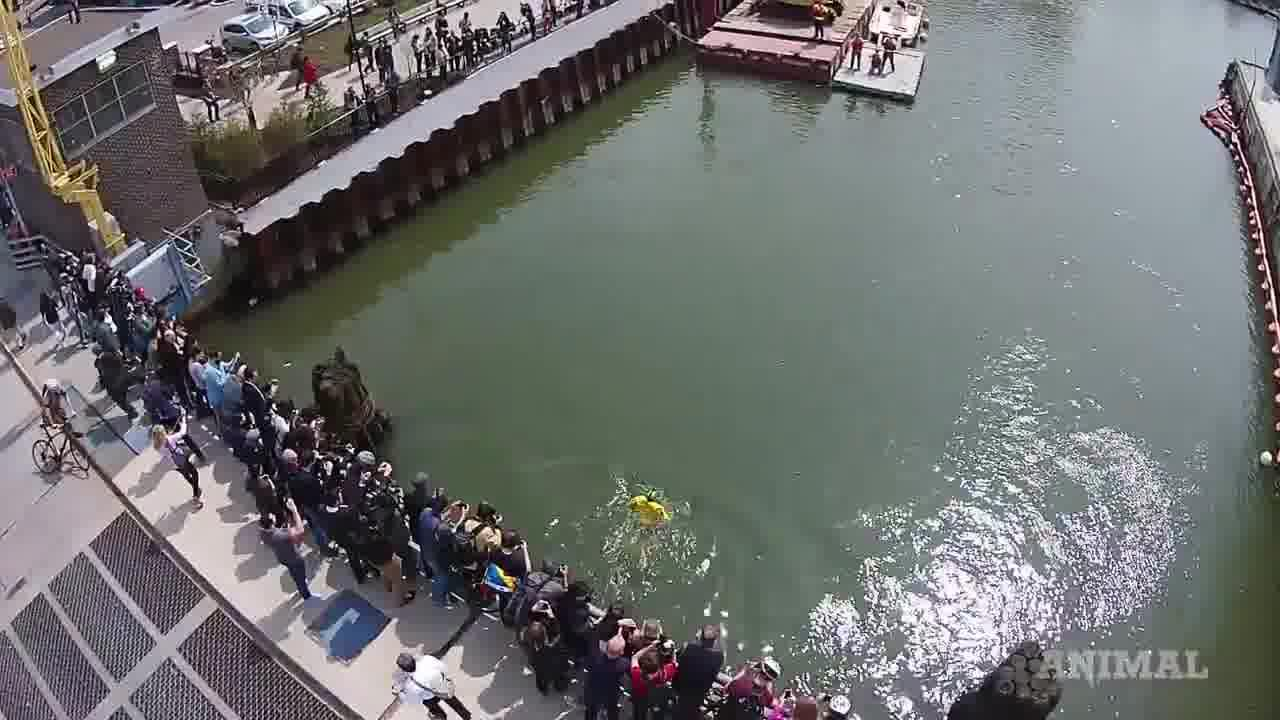swimmer: (628, 465, 683, 548)
